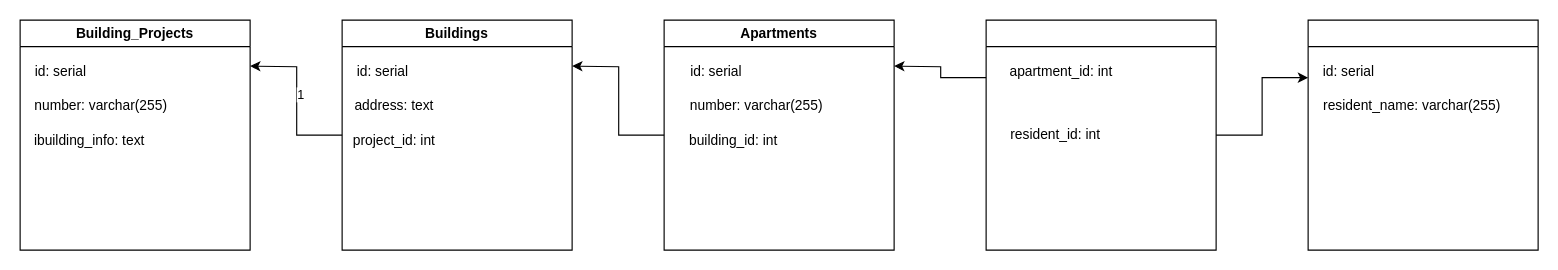
The diagram is 1558 pixels wide and 270 high, and some of its shapes have lost their labels. Each missing label, with the box of its shape:
Apartments_Residents: (985, 19, 1216, 250)
Residents: (1307, 19, 1538, 250)
